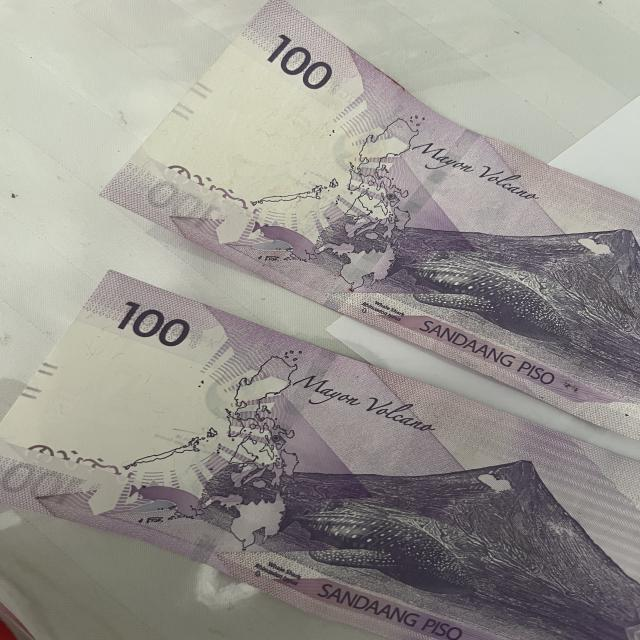100_whale: (255, 478, 479, 602), (372, 235, 578, 351)
100_whale_watermark: (121, 473, 210, 534), (238, 214, 330, 271)
watermark: (190, 73, 387, 222)
